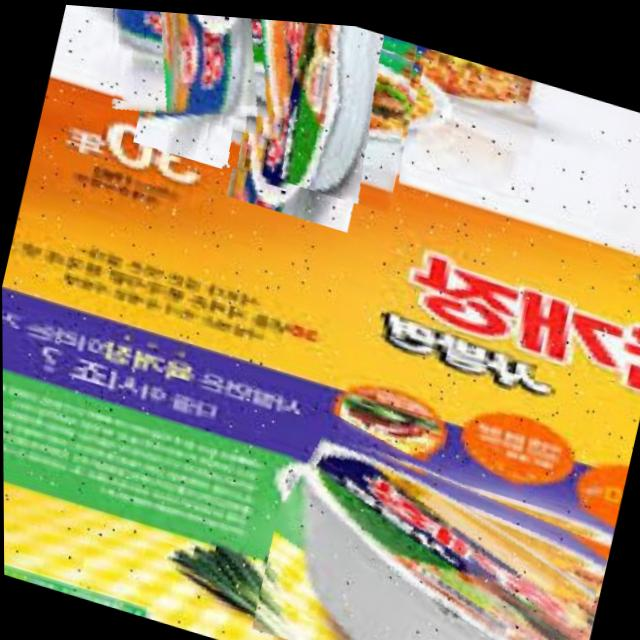Miscellaneous: (250, 410, 618, 640), (194, 11, 428, 209), (91, 5, 310, 146)
